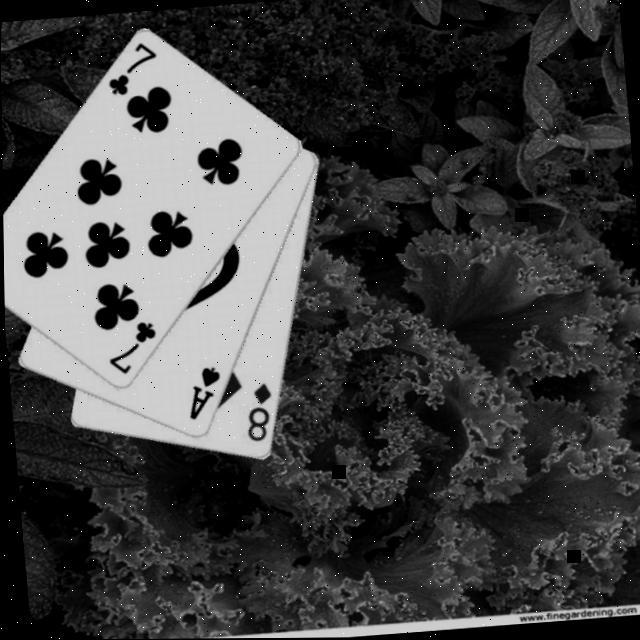7C: (99, 317, 160, 378), (100, 38, 161, 99)
8D: (238, 379, 276, 445)
AS: (180, 363, 225, 423)
